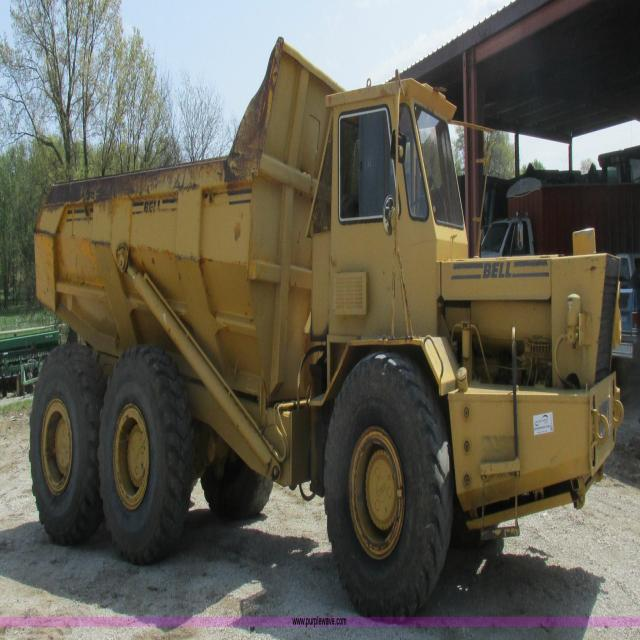dump_truck: (25, 32, 624, 623)
